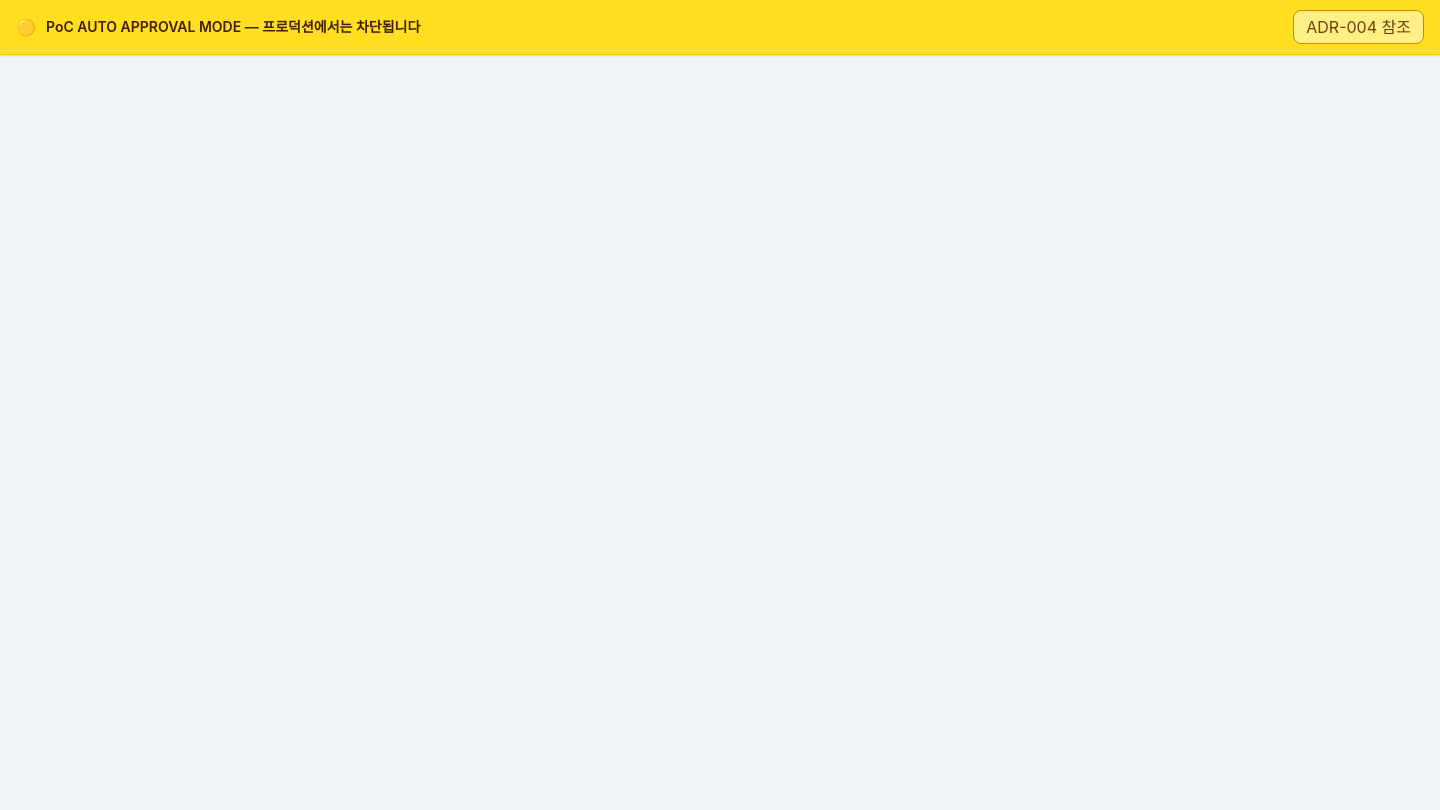
Scenario: PoCAutoApprovalBadge a11y › dialog closes when close button clicked
Click the button "ADR-004 참조" at (1359, 27), box [1293,10,1424,44]
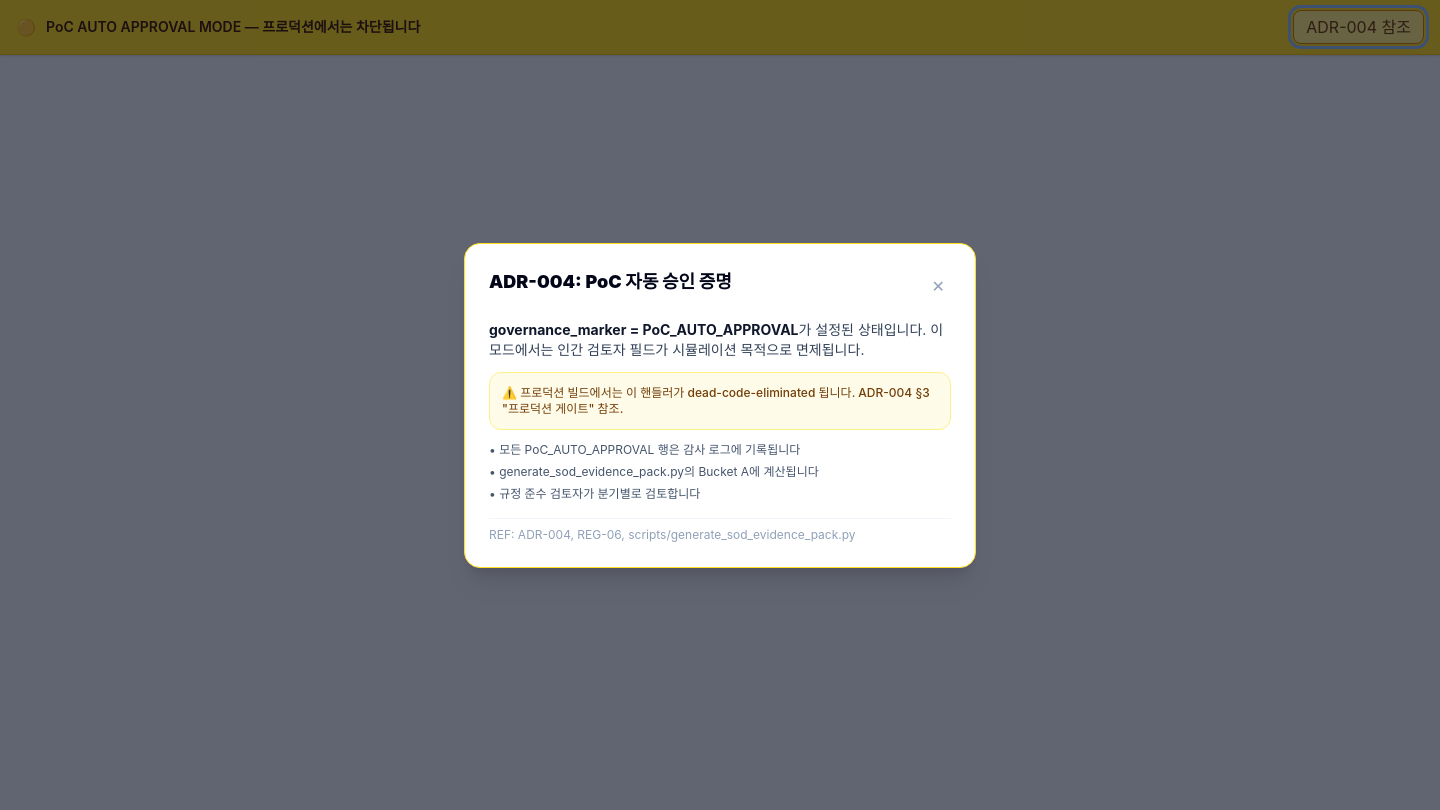
Click the button named "닫기" at (938, 286), box [926,268,951,304]
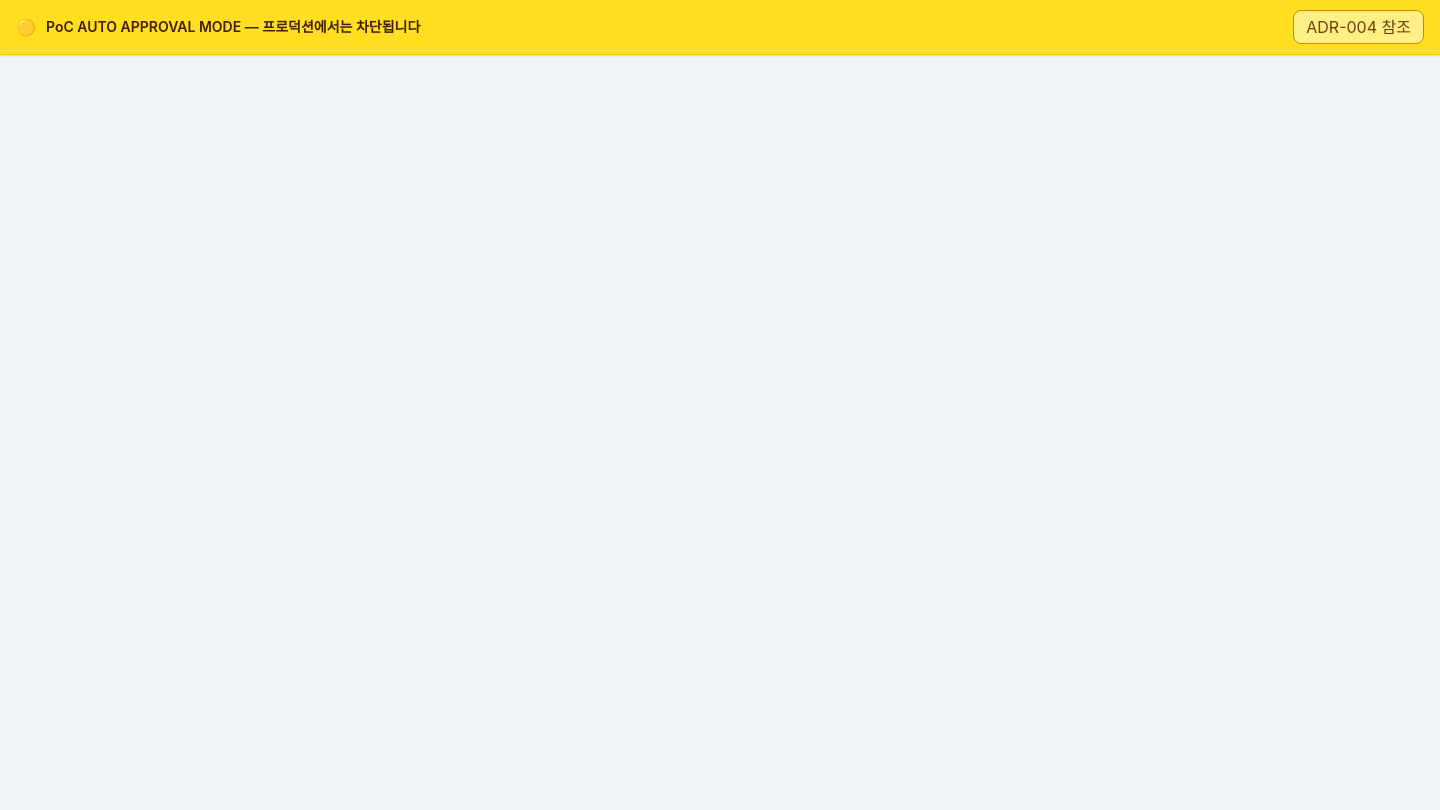
Check: the dialog is gone
